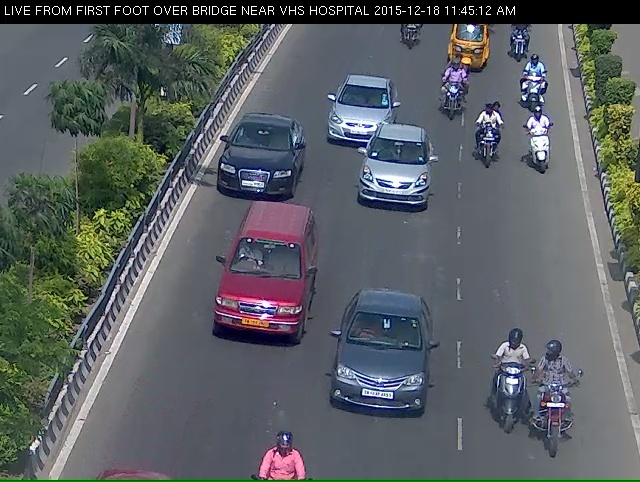Car: (318, 307, 444, 451), (213, 226, 305, 372), (215, 124, 302, 213), (360, 143, 436, 232), (324, 73, 386, 158), (440, 20, 492, 79), (441, 23, 491, 79)
Person: (487, 353, 536, 460), (538, 375, 577, 482), (530, 125, 563, 193), (471, 120, 504, 175), (434, 67, 465, 123), (519, 69, 550, 119)
